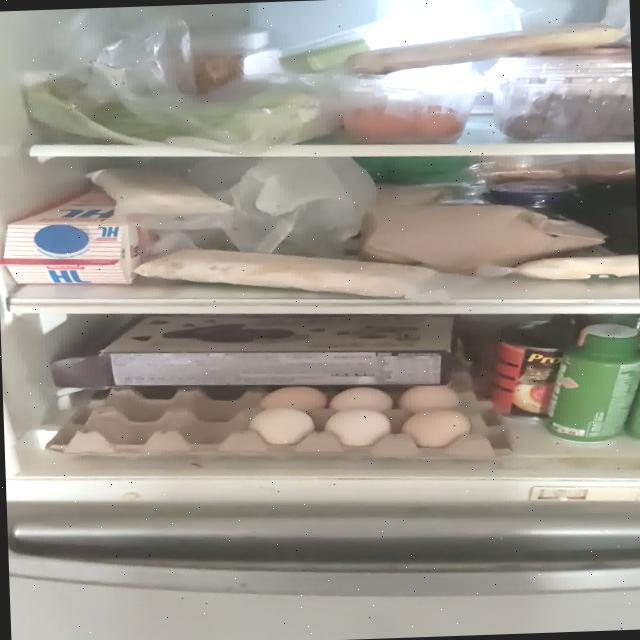egg: (42, 372, 513, 473)
grape: (494, 80, 634, 143)
leafy_greens: (25, 64, 343, 150)
tempeh: (133, 238, 438, 307), (345, 20, 623, 78), (77, 156, 231, 225)
unknown_bag: (221, 153, 380, 254)
